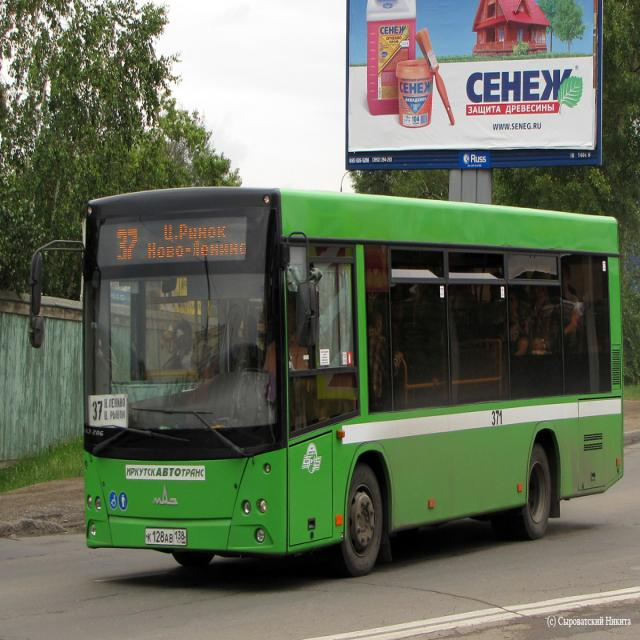number-of-bus: (117, 228, 140, 262), (91, 398, 105, 424)
